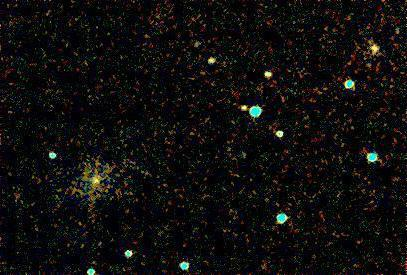star: (231, 90, 261, 120)
